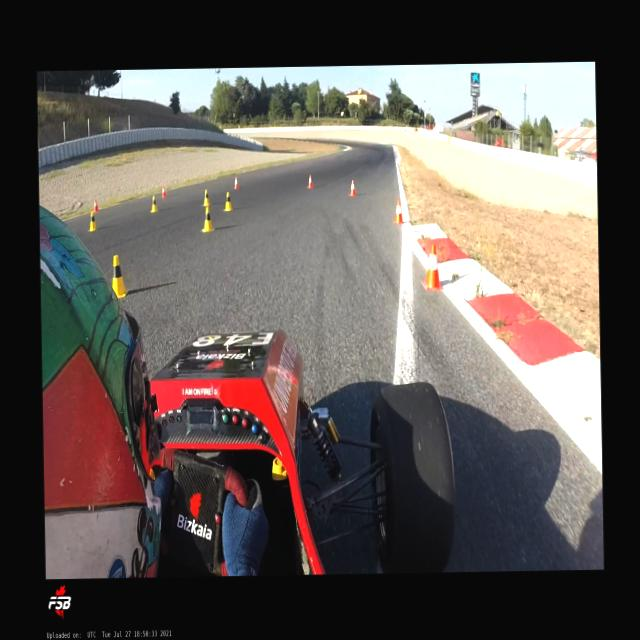orange_cone: (421, 244, 443, 288), (393, 200, 403, 223), (348, 180, 356, 196), (306, 174, 314, 187), (92, 198, 98, 212), (233, 176, 239, 188), (160, 185, 166, 197)
yellow_cone: (111, 254, 126, 297), (200, 206, 213, 232), (86, 210, 96, 230), (224, 192, 232, 210), (150, 195, 158, 212), (202, 190, 210, 206)
